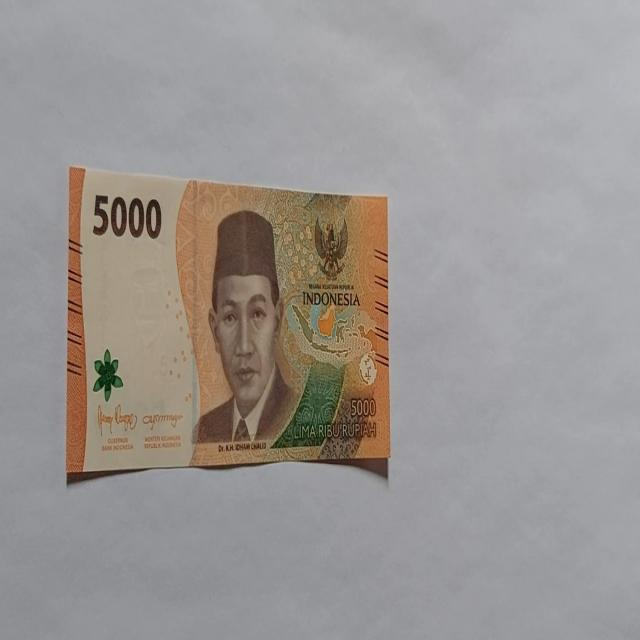lima ribu rupiah: (66, 163, 390, 482), (191, 208, 301, 447)
